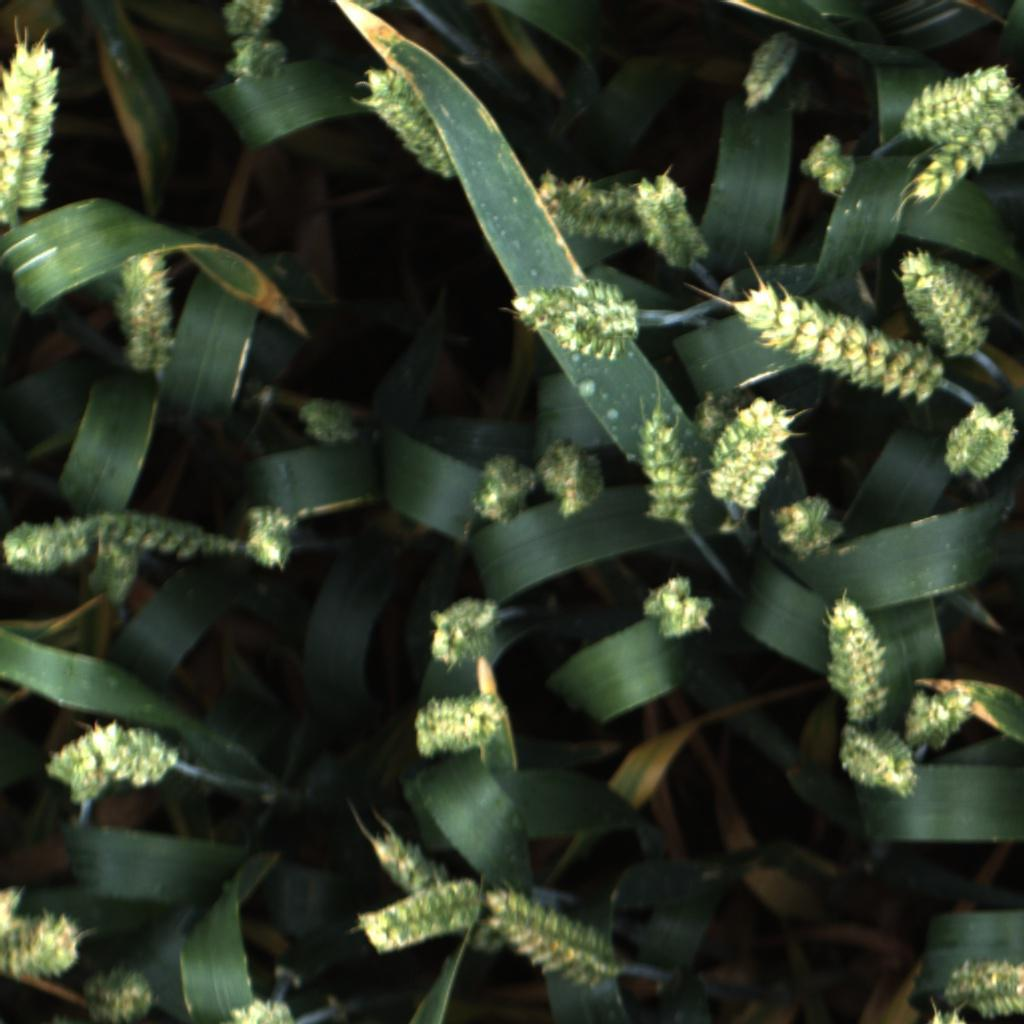0-0: (728, 263, 962, 410), (53, 498, 238, 578), (486, 886, 617, 992), (0, 37, 67, 230), (914, 92, 1024, 207), (360, 60, 458, 184), (887, 244, 988, 362), (531, 163, 663, 252), (703, 395, 800, 514), (350, 875, 485, 960), (813, 586, 894, 727), (895, 62, 1020, 143), (115, 243, 182, 384), (630, 172, 714, 275), (631, 402, 696, 529), (503, 275, 630, 339), (826, 718, 925, 800), (408, 689, 509, 763), (419, 587, 502, 672), (937, 400, 1024, 481), (635, 568, 721, 645), (92, 717, 180, 792), (548, 298, 645, 365), (368, 824, 455, 897), (0, 909, 85, 983), (734, 23, 801, 114), (464, 445, 537, 528), (538, 438, 608, 523), (901, 684, 979, 760), (43, 725, 110, 811), (240, 494, 307, 575), (932, 254, 1004, 327), (943, 955, 1024, 1019), (773, 489, 844, 561), (81, 960, 157, 1024), (83, 535, 143, 609), (1, 514, 65, 583), (798, 131, 862, 198), (297, 389, 361, 450), (224, 34, 290, 87), (211, 992, 311, 1024), (686, 388, 734, 448), (217, 1, 284, 41), (0, 878, 23, 939), (924, 1010, 967, 1024)
